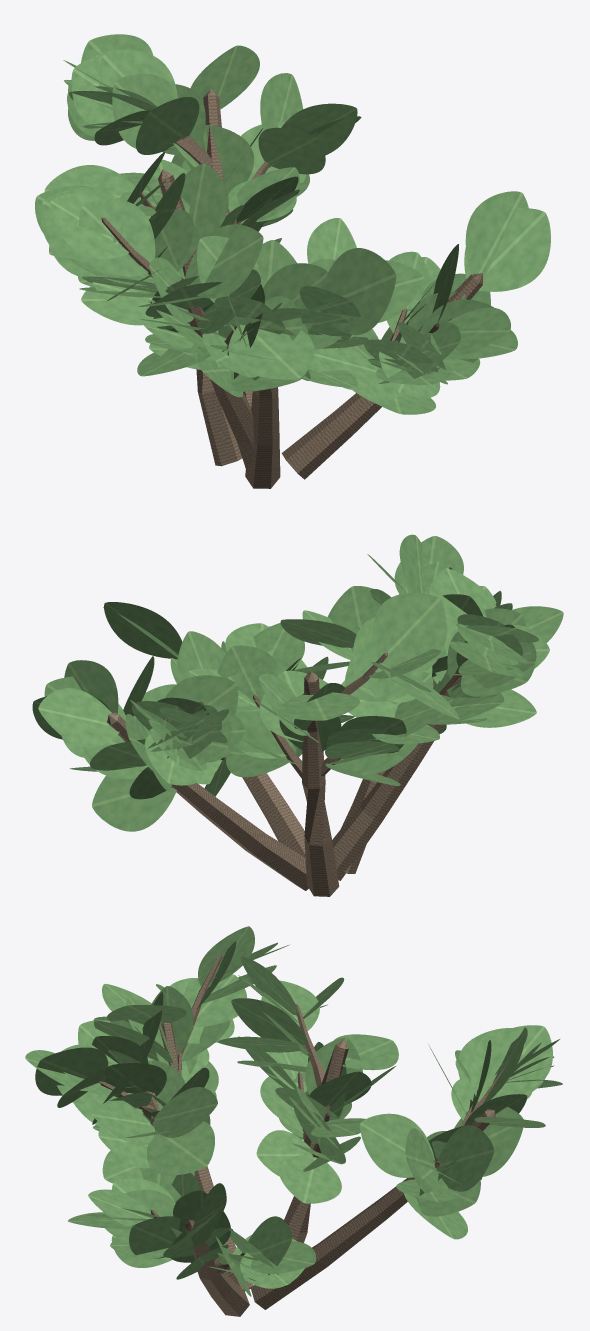
3 renders of one model, top to bottom at view 1: azimuth 30°, elevation 25°; view 2: azimuth 150°, elevation 25°; view 3: azimuth 270°, elevation 25°, orthographic. The views are drawn at different scales.
Parts seen in each view (by area): view 1: 덤불_01; view 2: 덤불_01; view 3: 덤불_01.
Part boxes in pixels (x1,y1,x2,y2): 덤불_01: (35,34,550,488); 덤불_01: (32,534,563,896); 덤불_01: (25,926,562,1316).
Size of the model in its own units: 1529 by 1026 by 1659.
Materials: 2 (2 with a texture image).
